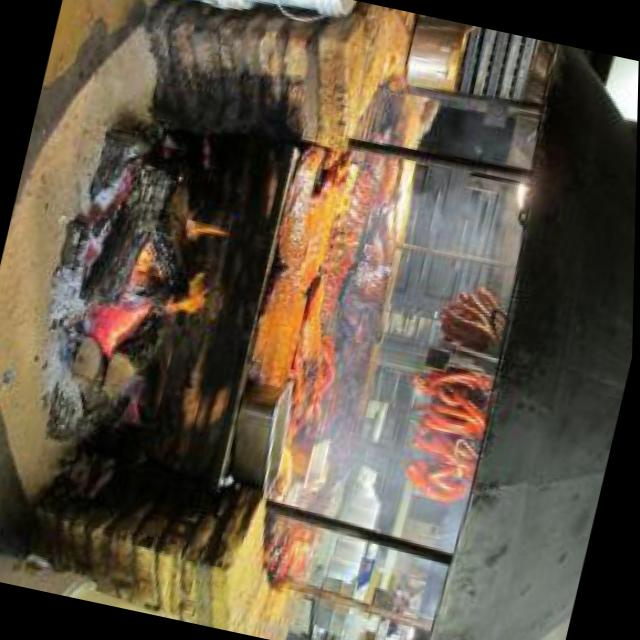Fire: (137, 188, 236, 341)
